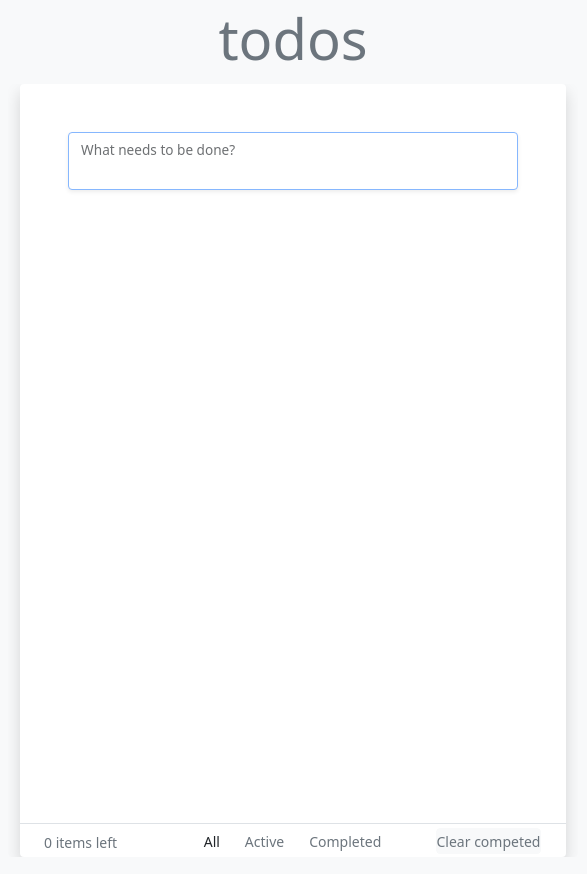
it: add and complete tasks
Type "Call mom" into the field labelled "What needs to be done?" at [293, 161], box [68,132,518,190]
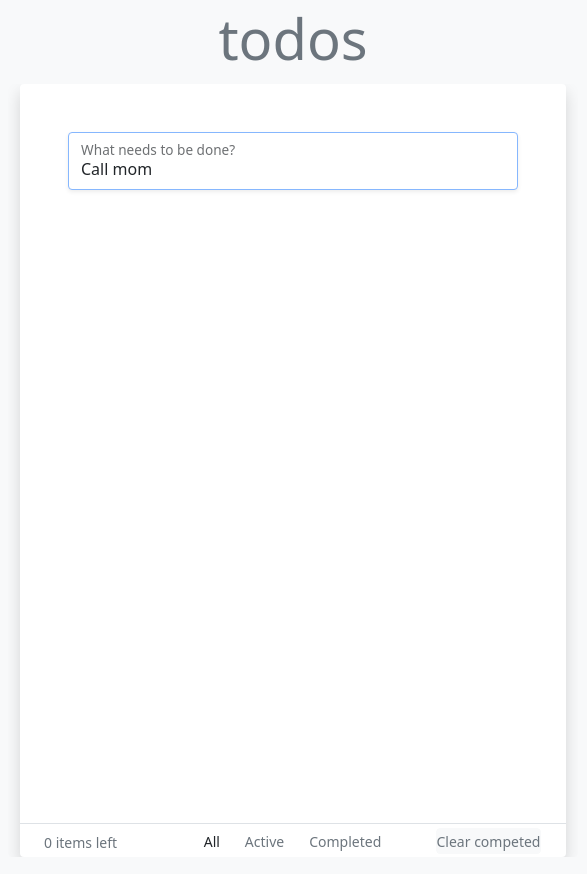
Submit the form from the field labelled "What needs to be done?", box [68,132,518,190]
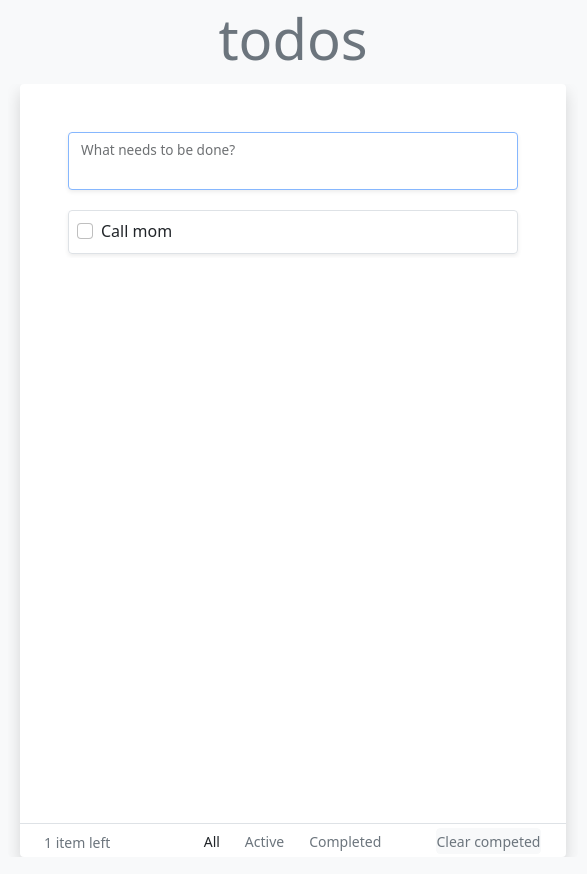
Type "Buy bread" into the field labelled "What needs to be done?" at [293, 161], box [68,132,518,190]
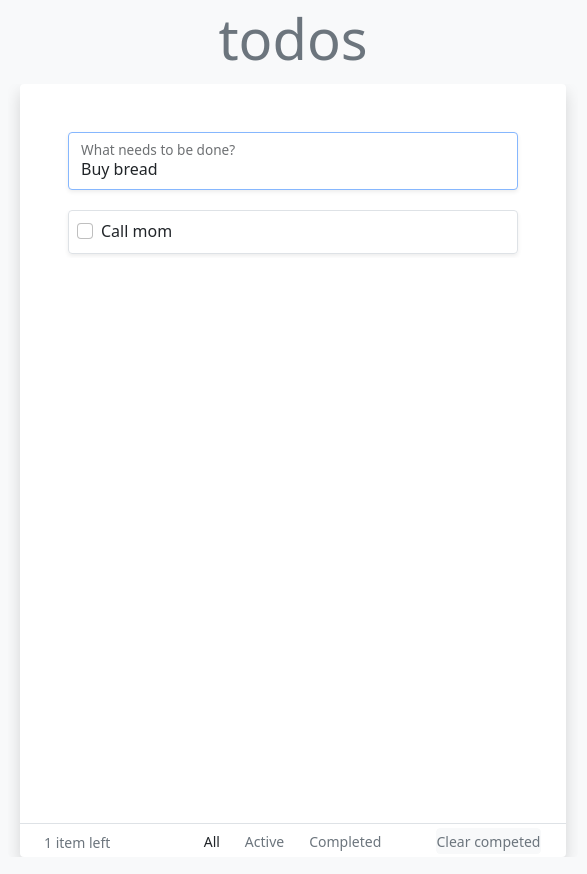
Submit the form from the field labelled "What needs to be done?", box [68,132,518,190]
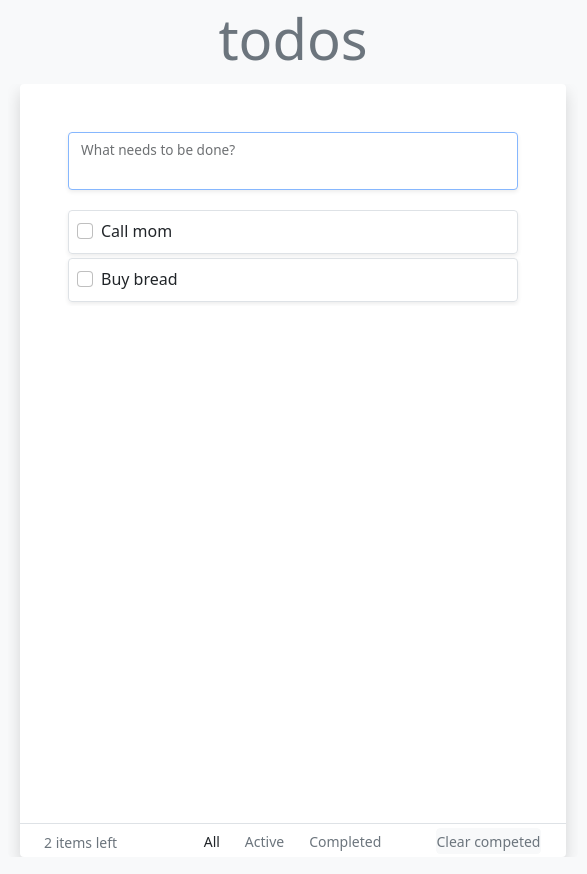
Result: the checkbox labelled "Call mom" is shown
Result: the checkbox labelled "Call mom" is not checked
Result: the checkbox labelled "Buy bread" is not checked at [77,271,93,287]
Click the checkbox labelled "Call mom" at [85, 231], box [77,223,93,239]
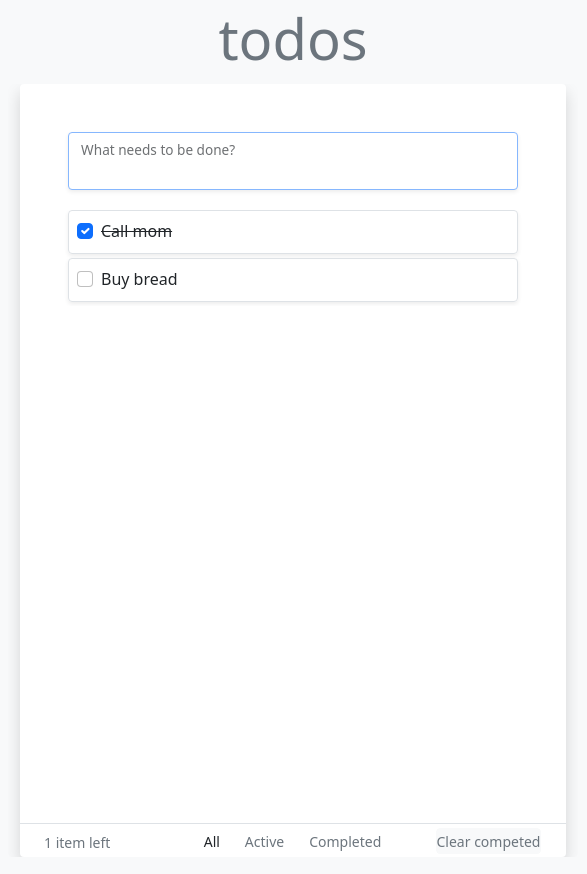
Result: the checkbox labelled "Buy bread" is not checked at [77,271,93,287]
Result: the checkbox labelled "Call mom" is checked at [77,223,93,239]
